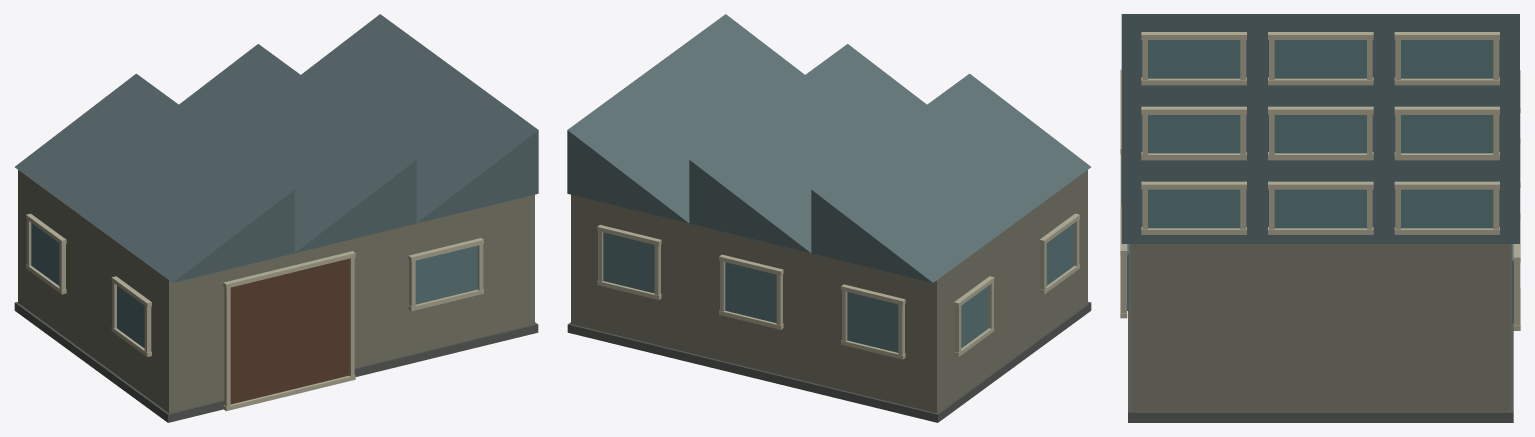
File: Building_Settlement_SawtoothWorkshop_001_LOD1.glb
3 views of the same model, side by side, from view 1: azimuth 30°, elevation 25°; view 2: azimuth 150°, elevation 25°; view 3: azimuth 270°, elevation 25° (orthographic). The views are drawn at different scales.
Parts seen in each view (by area): view 1: Building_Settlement_SawtoothWorkshop_001_LOD1; view 2: Building_Settlement_SawtoothWorkshop_001_LOD1; view 3: Building_Settlement_SawtoothWorkshop_001_LOD1.
Part boxes in pixels (x1,y1,x2,y2): Building_Settlement_SawtoothWorkshop_001_LOD1: (14, 14, 538, 422); Building_Settlement_SawtoothWorkshop_001_LOD1: (567, 14, 1091, 422); Building_Settlement_SawtoothWorkshop_001_LOD1: (1120, 14, 1520, 422).
Bounding box in the file's own units: 8.72 × 4.5 × 6.33.
